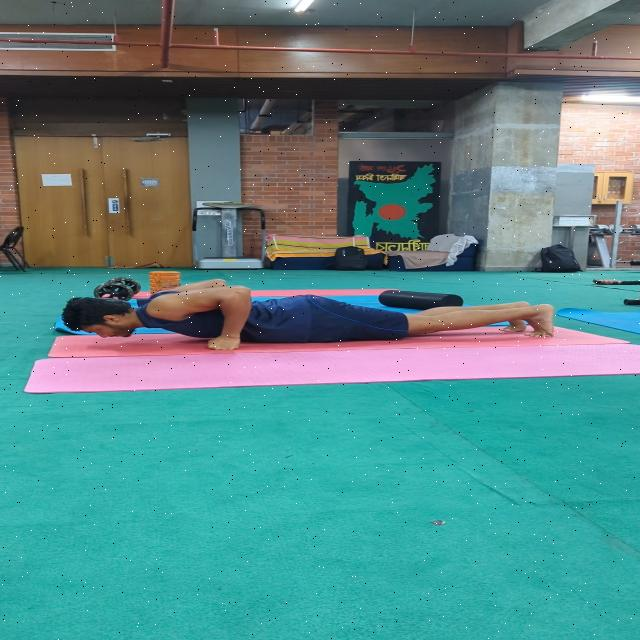Normal_PushUps: (50, 268, 566, 364)
